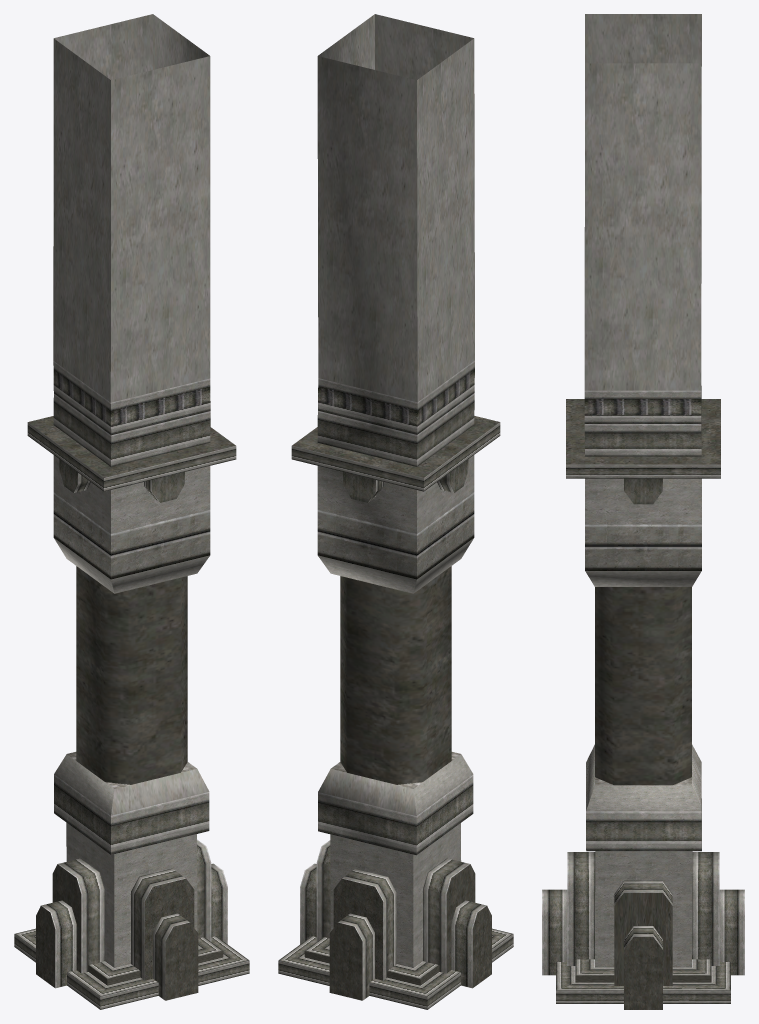
Rendered from L_MOUNT_WATERROOM_COLUMN.fbx.
3 renders of one model, left to right at view 1: azimuth 30°, elevation 25°; view 2: azimuth 150°, elevation 25°; view 3: azimuth 270°, elevation 25°, orthographic.
Parts seen in each view (by area): view 1: L_MOUNT_WATERROOM_COLUMN; view 2: L_MOUNT_WATERROOM_COLUMN; view 3: L_MOUNT_WATERROOM_COLUMN.
Part boxes in pixels (<box>): L_MOUNT_WATERROOM_COLUMN: <box>14,14,249,1009</box>; L_MOUNT_WATERROOM_COLUMN: <box>278,14,513,1009</box>; L_MOUNT_WATERROOM_COLUMN: <box>542,14,744,1009</box>.
Size of the model in its own units: 41699 by 210727 by 41699.
Materials: 8 (8 with a texture image).
